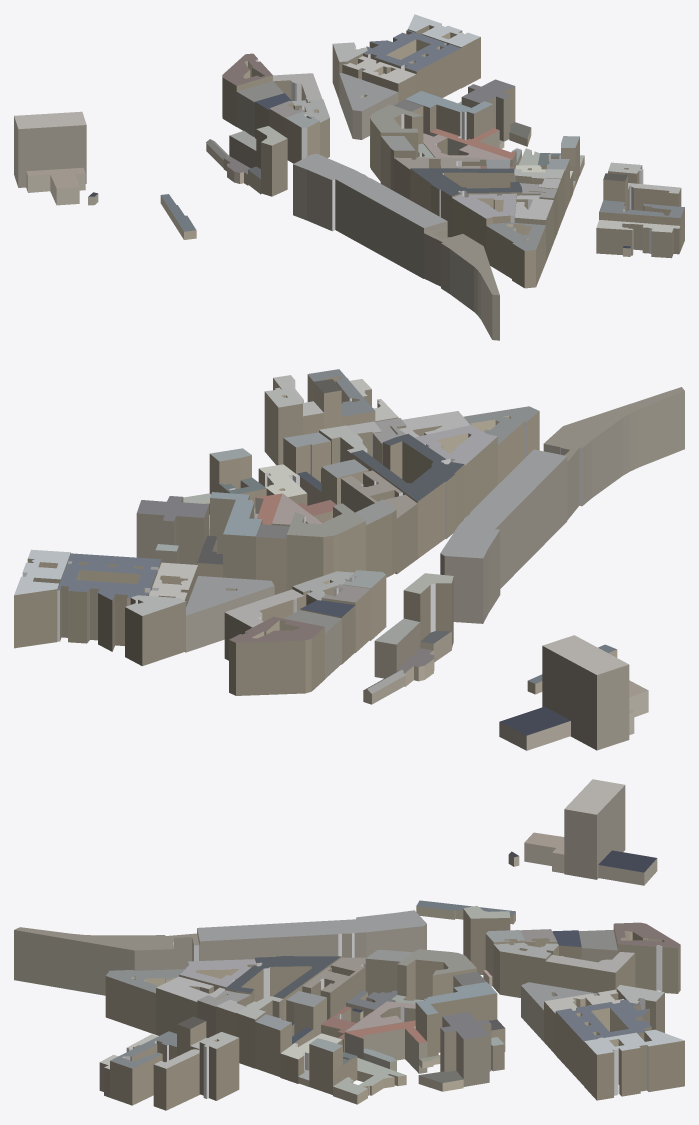
3 views of the same model, one above another, from view 1: azimuth 30°, elevation 25°; view 2: azimuth 150°, elevation 25°; view 3: azimuth 270°, elevation 25° (orthographic). The views are drawn at different scales.
Visible parts, largest first — view 1: tuile; view 2: tuile; view 3: tuile.
Boxes of the visible parts, left/top/right/bottom form: tuile: left=14, top=14, right=684, bottom=340; tuile: left=14, top=369, right=684, bottom=750; tuile: left=14, top=779, right=684, bottom=1110.
Bounding box in the file's own units: 280 × 42.76 × 313.
